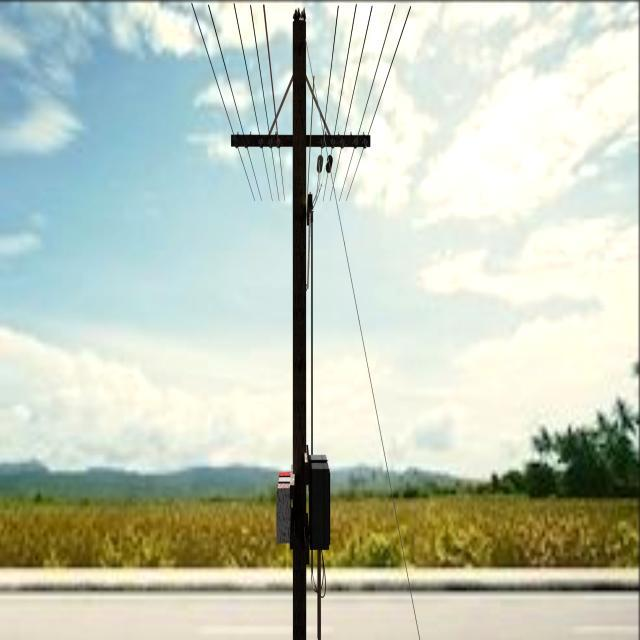crossarm: (230, 134, 371, 151)
pole: (293, 9, 307, 640)
transformer: (309, 456, 332, 553)
wire: (306, 39, 421, 640), (345, 3, 412, 203), (191, 2, 255, 201), (338, 3, 396, 202), (207, 4, 262, 201), (330, 5, 373, 200), (233, 3, 273, 201), (323, 4, 357, 201), (249, 4, 280, 201), (315, 4, 339, 200), (262, 3, 285, 201)
